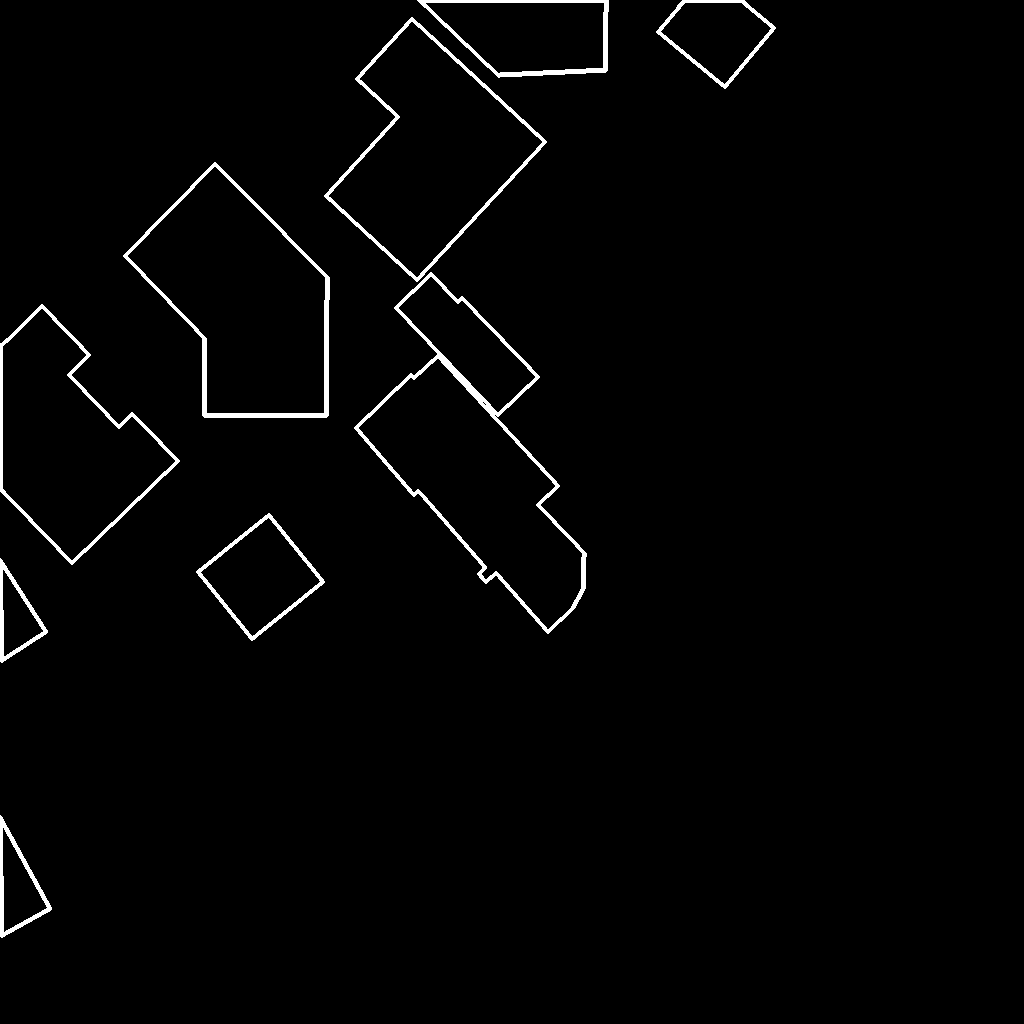building: (356, 356, 585, 633), (326, 19, 546, 281), (125, 164, 328, 416), (0, 306, 179, 564), (396, 274, 539, 416), (198, 515, 324, 640), (419, 0, 607, 76), (658, 0, 775, 88), (0, 817, 51, 937), (0, 560, 47, 662)
